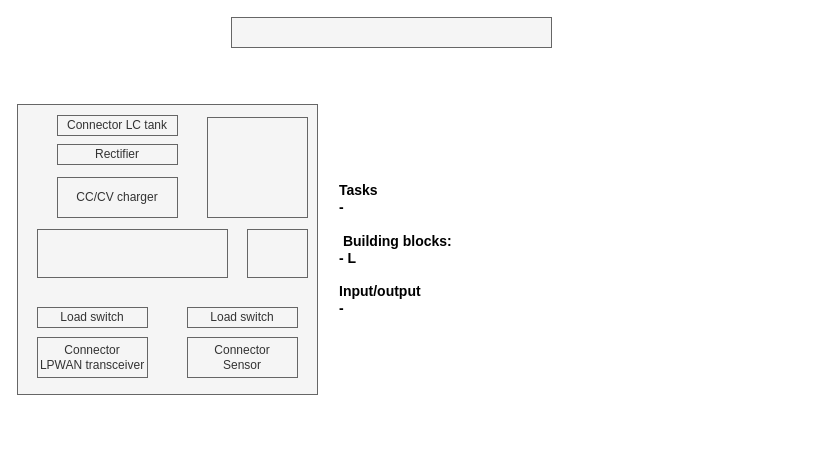
Image size: 813x454. Some labels were removed from this diagram. Each missing label, with the box of its shape:
Energy storage: (206, 116, 308, 218)
MIFA 2.4 GHz Antenna: (246, 228, 308, 278)
NRF52832 BLE SoC: (36, 228, 228, 278)
Power Receiving Unit: (230, 16, 552, 48)
